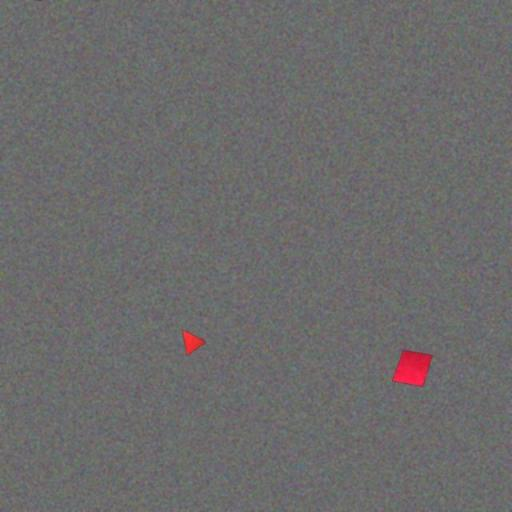RED_SQUARE: (392, 350, 434, 388)
